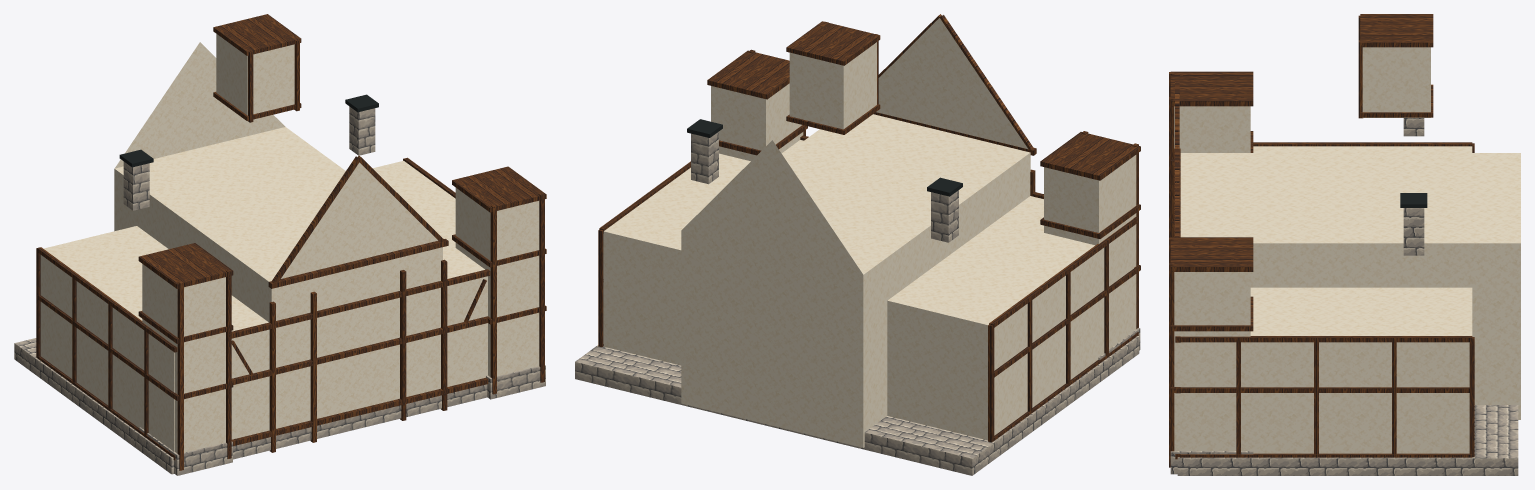
The model's file is SM_GuildHall_Shell.fbx.
3 renders of one model, left to right at view 1: azimuth 30°, elevation 25°; view 2: azimuth 150°, elevation 25°; view 3: azimuth 270°, elevation 25°, orthographic. The views are drawn at different scales.
Visible parts, largest first — view 1: CentralHall_1, CentralHall_5, SideWing_4, Gable, Gable.001, CornerTower_1.001, CornerTower_1, SideWing_5, CentralHall_4, SideWing_5.001, SideWing_1.001, SideWing_1 (+35 smaller); view 2: CentralHall_3, CentralHall_5, SideWing_4, SideWing_5, SideWing_3, Gable.001, CentralHall_4, Gable, SideWing_3.001, SideWing_5.001, StoneFoundation_5, StoneFoundation_3 (+15 smaller); view 3: SideWing_2.001, CentralHall_5, CentralHall_2, SideWing_5.001, StoneFoundation_2, CornerTower_2.001, BellTower_2, CornerTower_2, StoneFoundation_5, TowerBand_5.005, TowerBand_5.002, BelfryTie_5.001 (+23 smaller).
Boxes of the visible parts, x1=… form: CentralHall_1: x1=271, y1=247, x2=442, y2=428; CentralHall_5: x1=115, y1=127, x2=345, y2=281; SideWing_4: x1=40, y1=255, x2=174, y2=451; Gable: x1=281, y1=162, x2=437, y2=278; Gable.001: x1=114, y1=42, x2=285, y2=168; CornerTower_1.001: x1=497, y1=201, x2=539, y2=376; CornerTower_1: x1=184, y1=277, x2=225, y2=452; SideWing_5: x1=44, y1=226, x2=268, y2=331; CentralHall_4: x1=114, y1=169, x2=271, y2=322; SideWing_5.001: x1=373, y1=160, x2=484, y2=278; SideWing_1.001: x1=447, y1=276, x2=487, y2=386; SideWing_1: x1=174, y1=329, x2=269, y2=451; CentralHall_3: x1=681, y1=230, x2=863, y2=447; CentralHall_5: x1=783, y1=114, x2=1030, y2=274; SideWing_4: x1=994, y1=226, x2=1133, y2=435; SideWing_5: x1=888, y1=196, x2=1094, y2=324; SideWing_3: x1=887, y1=300, x2=987, y2=440; Gable.001: x1=681, y1=140, x2=862, y2=274; CentralHall_4: x1=863, y1=153, x2=1030, y2=447; Gable: x1=876, y1=18, x2=1027, y2=148; SideWing_3.001: x1=603, y1=231, x2=681, y2=365; SideWing_5.001: x1=604, y1=140, x2=803, y2=250; StoneFoundation_5: x1=575, y1=336, x2=1138, y2=458; StoneFoundation_3: x1=575, y1=362, x2=972, y2=475; SideWing_2.001: x1=1180, y1=342, x2=1469, y2=453; CentralHall_5: x1=1180, y1=153, x2=1520, y2=243; CentralHall_2: x1=1250, y1=243, x2=1520, y2=419; SideWing_5.001: x1=1250, y1=287, x2=1472, y2=335; StoneFoundation_2: x1=1177, y1=458, x2=1518, y2=475; CornerTower_2.001: x1=1174, y1=272, x2=1250, y2=451; BellTower_2: x1=1362, y1=47, x2=1430, y2=117; CornerTower_2: x1=1174, y1=106, x2=1250, y2=152; StoneFoundation_5: x1=1177, y1=405, x2=1518, y2=458; TowerBand_5.005: x1=1170, y1=237, x2=1253, y2=266; TowerBand_5.002: x1=1170, y1=71, x2=1253, y2=101; BelfryTie_5.001: x1=1360, y1=14, x2=1433, y2=42.
Bounding box in the file's own units: 1920 × 1446 × 1590.
Materials: 4 (3 with a texture image).
